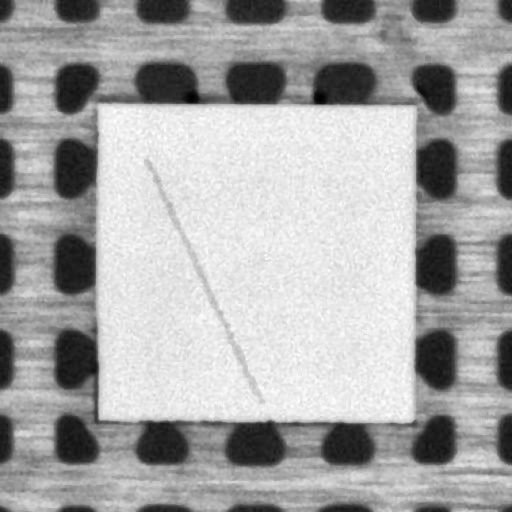DIE_CRACK: (146, 160, 259, 402)
